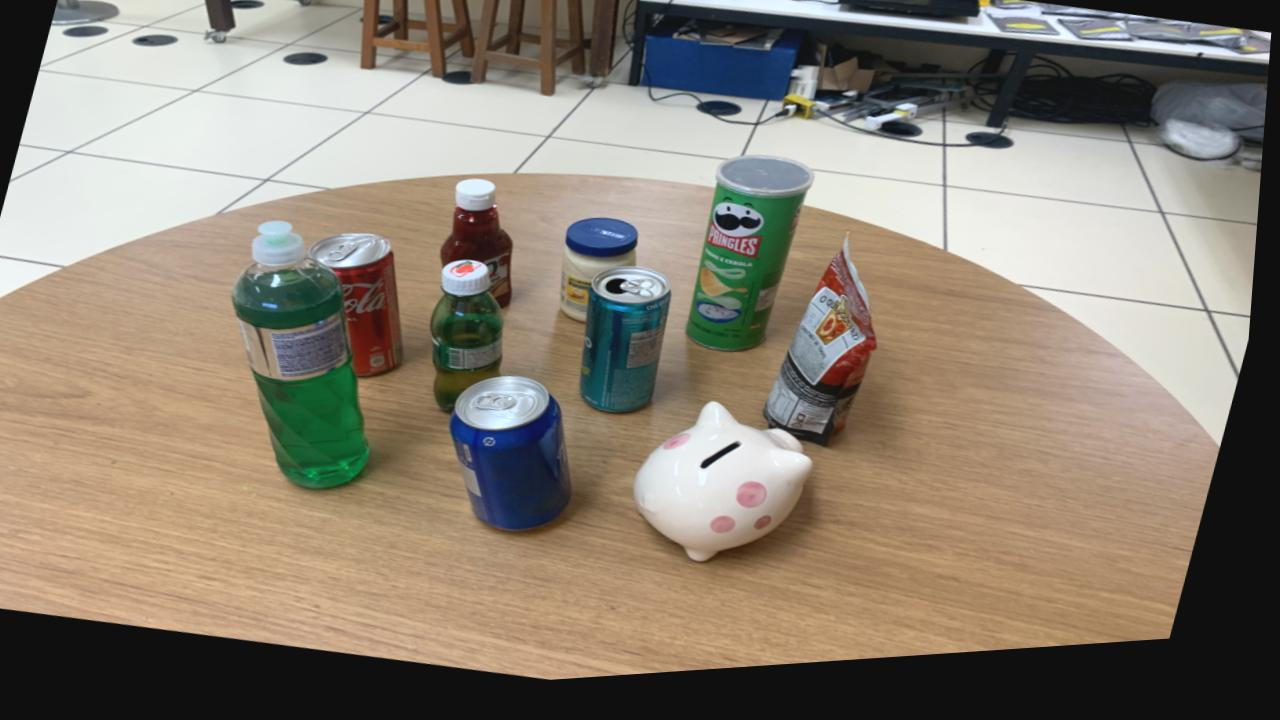Coke-Drinks: (314, 238, 409, 382)
Detergent-Cleanup_Items: (236, 224, 376, 493)
Guarana-Drinks: (434, 266, 509, 418)
Ketchup-Pantry_Items: (444, 185, 517, 314)
Mayonnaise-Pantry_Items: (564, 226, 643, 330)
Pig_Safe-Miscellaneous: (641, 412, 820, 572)
Pringles-Snacks: (691, 165, 817, 361)
Tea-Drinks: (585, 274, 676, 422)
Tomato_Sauce-Pantry_Items: (771, 252, 883, 457)
Tonic-Drinks: (456, 383, 580, 538)
